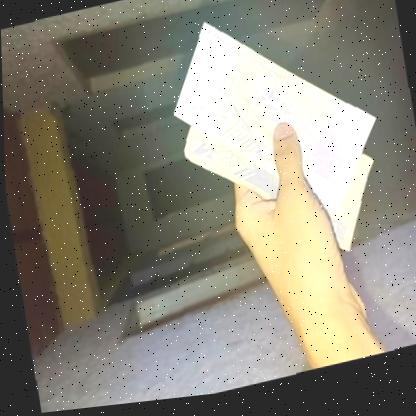two_hundred-back-vef: (157, 0, 388, 255)
